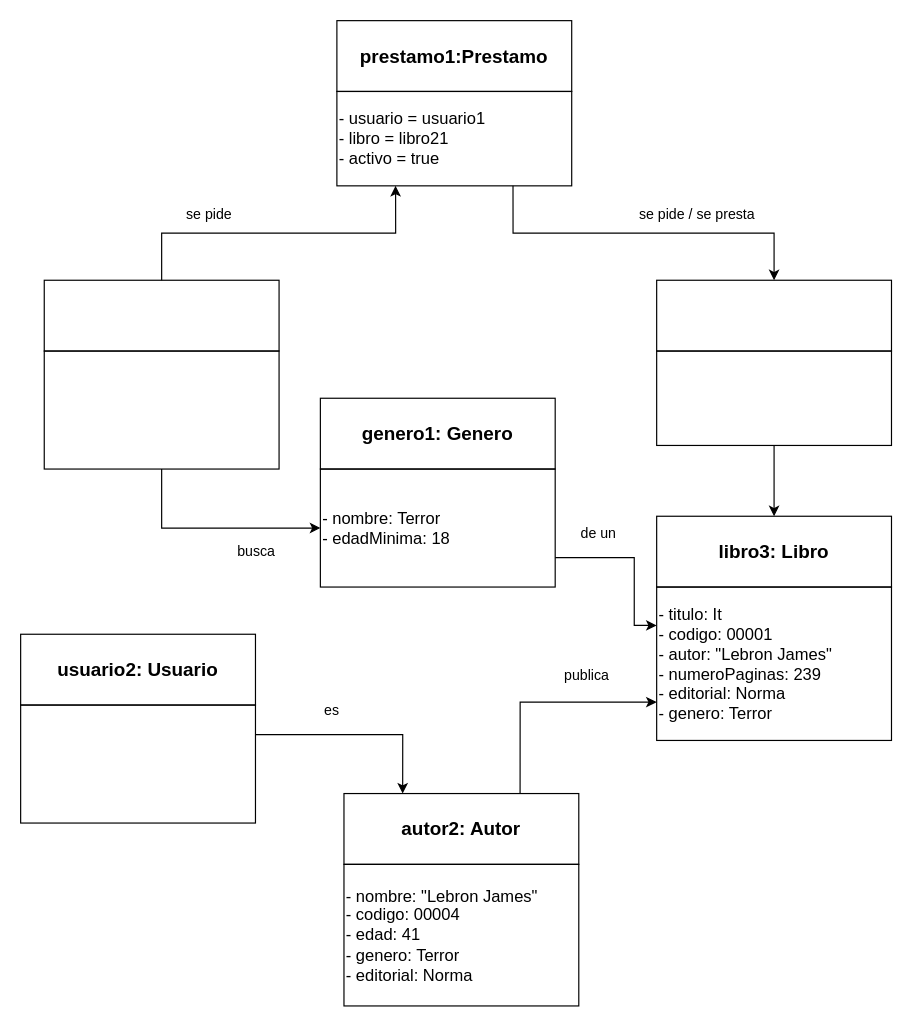
Image size: 912x1027. Some labels were removed from this diagram. Each missing label, with the centre of its shape:
- libro: libro21 - codigo: 00011 - genero: Terror: point 773,397
- nombre = "Usuario1" - edad = 20 - numPenalizacion = 1 - generoFav = g1: point 161,409
- nombre = "Usuario2" - edad = 20 - numPenalizacion = 1 - generoFav = g1: point 137,763
ejemplar1: Ejemplar: point 773,315
usuario1: Usuario: point 161,315
